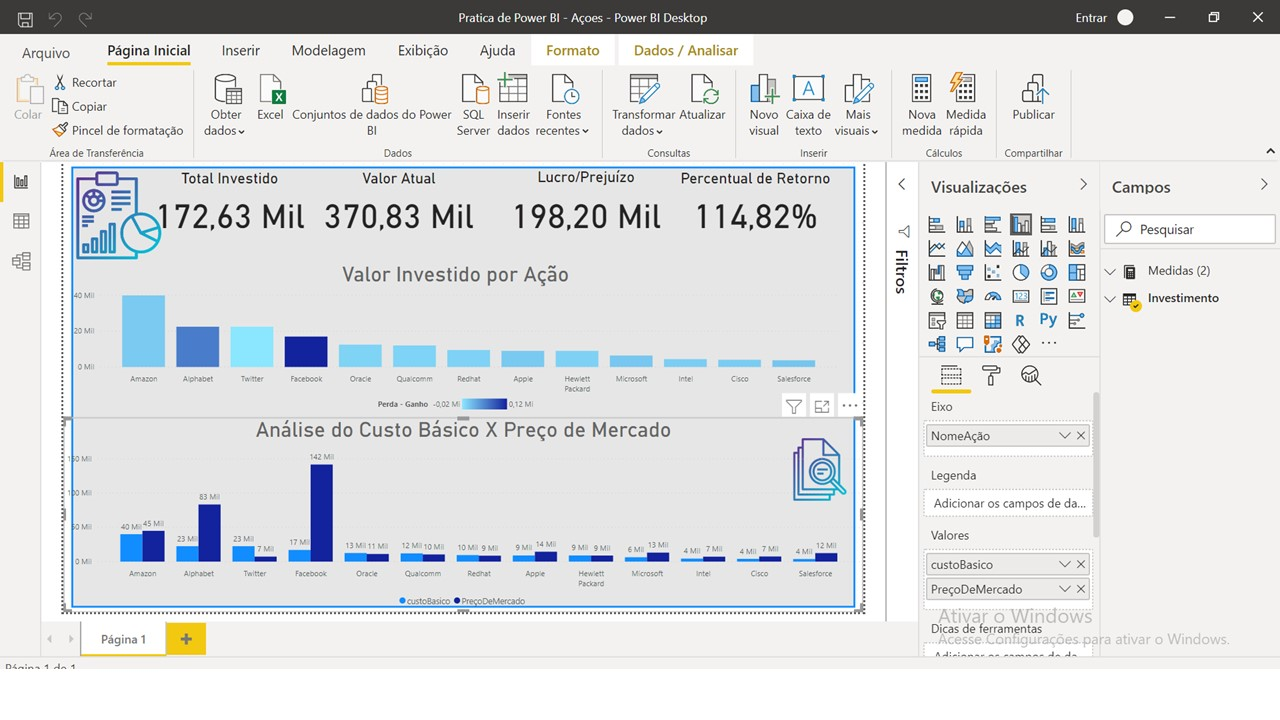

Layout of this report page (visuals, bound fields, positions):
{"tool":"powerbi","page":{"name":"Página 1","canvas":[1280,720],"ordinal":0},"visuals":[{"type":"basicShape","box":[0,0,1280,720],"z":0},{"type":"clusteredColumnChart","title":"Valor Investido por Ação","fields":{"Category":["Investimento.NomeAção"],"Y":["Sum(Investimento.custoBasico)"]},"box":[11.2,159.6,1232.4,247.8],"z":1000},{"type":"clusteredColumnChart","title":"Análise do Custo Básico X Preço de Mercado","fields":{"Y":["Sum(Investimento.Dividendos Hierarquia.custoBasico)","Sum(Investimento.PreçoDeMercado)"],"Category":["Investimento.NomeAção"]},"box":[0,407.4,1280.4,312.6],"z":2000},{"type":"image","box":[2.2,8.9,174.1,150.7],"z":3000},{"type":"image","box":[1155.6,423.1,110.2,138.7],"z":4000},{"type":"card","title":"Total Investido","fields":{"Values":["Medidas (2).M Total Investido"]},"box":[134,11.2,263.4,108.3],"z":5000},{"type":"card","title":"Percentual de Retorno","fields":{"Values":["Medidas (2).M Percentual Retorno"]},"box":[971.2,11.2,272.4,108.3],"z":6000},{"type":"card","title":"Lucro/Prejuízo","fields":{"Values":["Medidas (2).M Lucro/Prejuizo"]},"box":[703.3,10,264.6,111.6],"z":7000},{"type":"card","title":"Valor Atual","fields":{"Values":["Medidas (2).M Valor Atual"]},"box":[409.7,11.2,254.5,108.3],"z":8000}]}

Visuals, with their boxes on the page's 1280x720 design canvas (x1, y1, x2, y2). These are canvas units, not pixel positions in the 1280x720 screenshot, which may show the page scaled, cropped or inside an application window:
basicShape: <box>0,0,1280,720</box>
"Valor Investido por Ação" clusteredColumnChart: <box>11,160,1244,407</box>
"Análise do Custo Básico X Preço de Mercado" clusteredColumnChart: <box>0,407,1280,720</box>
image: <box>2,9,176,160</box>
image: <box>1156,423,1266,562</box>
"Total Investido" card: <box>134,11,397,120</box>
"Percentual de Retorno" card: <box>971,11,1244,120</box>
"Lucro/Prejuízo" card: <box>703,10,968,122</box>
"Valor Atual" card: <box>410,11,664,120</box>
